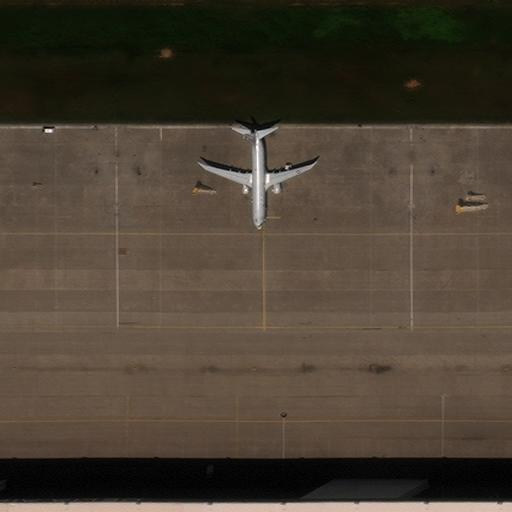Medium Civil Transport: (201, 126, 315, 231)
